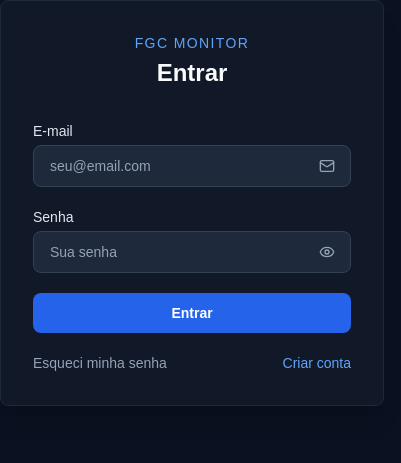
Scenario: Login › mostra as validações quando enviado um formulário em branco
This screenshot has width=401, height=463.
Click the button "Entrar" at [192, 313], box [33,293,351,333]
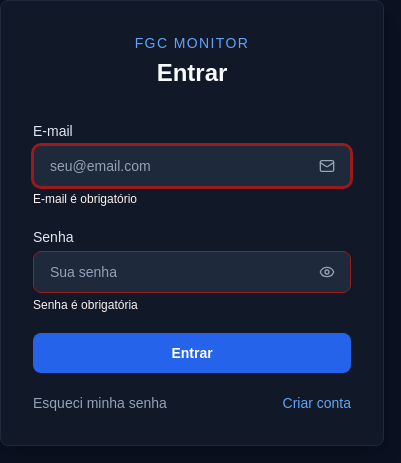
Result: the text "E-mail é obrigatório" is shown at [33,192,137,206]
Result: the text "Senha é obrigatória" is shown at [33,298,138,312]
